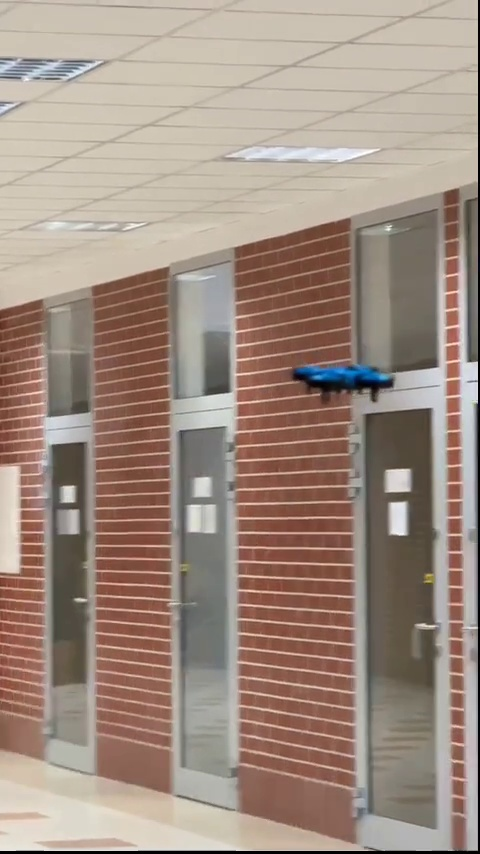drone: (291, 361, 392, 398)
